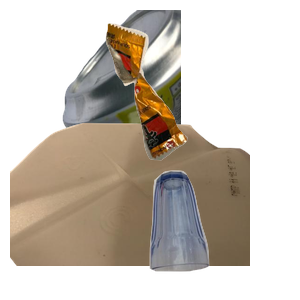glass: (147, 168, 300, 300)
metal: (60, 10, 300, 190)
plastic: (10, 120, 250, 300)
trash: (103, 21, 300, 174)
